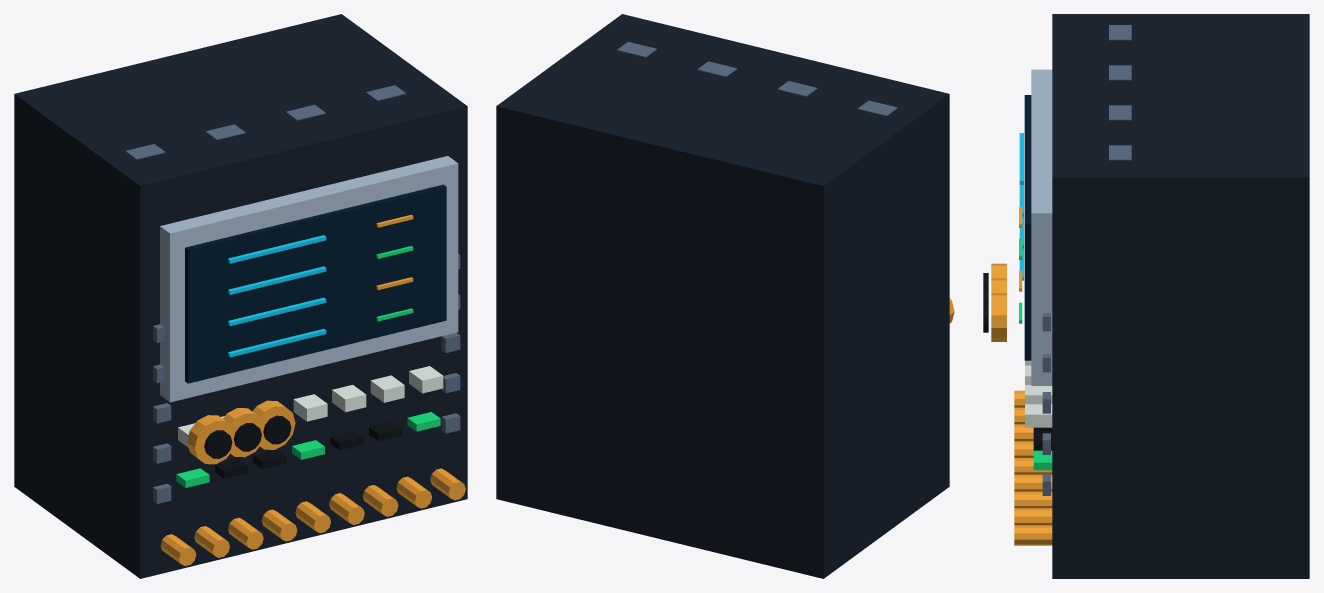
Rendered from 21_L88_AdsorberInletCO2Analyzer.fbx.
3 views of the same model, side by side, from view 1: azimuth 30°, elevation 25°; view 2: azimuth 150°, elevation 25°; view 3: azimuth 270°, elevation 25° (orthographic). The views are drawn at different scales.
Parts seen in each view (by area): view 1: L87_AdsorberInletCO2Analyzer_Part_0000, L87_AdsorberInletCO2Analyzer_Part_0002, L87_AdsorberInletCO2Analyzer_Part_0001, L87_AdsorberInletCO2Analyzer_Part_0004, L87_AdsorberInletCO2Analyzer_Part_0008, L87_AdsorberInletCO2Analyzer_Part_0006, L87_AdsorberInletCO2Analyzer_Part_0003, L87_AdsorberInletCO2Analyzer_Part_0007, L87_AdsorberInletCO2Analyzer_Part_0005, L87_AdsorberInletCO2Analyzer_Part_0009, L87_AdsorberInletCO2Analyzer_Part_0011, L87_AdsorberInletCO2Analyzer_Part_0013 (+3 smaller); view 2: L87_AdsorberInletCO2Analyzer_Part_0000, L87_AdsorberInletCO2Analyzer_Part_0008; view 3: L87_AdsorberInletCO2Analyzer_Part_0000, L87_AdsorberInletCO2Analyzer_Part_0001, L87_AdsorberInletCO2Analyzer_Part_0004, L87_AdsorberInletCO2Analyzer_Part_0008, L87_AdsorberInletCO2Analyzer_Part_0002, L87_AdsorberInletCO2Analyzer_Part_0006, L87_AdsorberInletCO2Analyzer_Part_0013, L87_AdsorberInletCO2Analyzer_Part_0003, L87_AdsorberInletCO2Analyzer_Part_0005.
Part boxes in pixels (box(x1,y1,x2,y2)): L87_AdsorberInletCO2Analyzer_Part_0000: box(14, 14, 467, 578); L87_AdsorberInletCO2Analyzer_Part_0002: box(185, 184, 446, 383); L87_AdsorberInletCO2Analyzer_Part_0001: box(160, 156, 458, 402); L87_AdsorberInletCO2Analyzer_Part_0004: box(160, 214, 465, 565); L87_AdsorberInletCO2Analyzer_Part_0008: box(125, 85, 460, 503); L87_AdsorberInletCO2Analyzer_Part_0006: box(178, 366, 443, 447); L87_AdsorberInletCO2Analyzer_Part_0003: box(228, 235, 326, 357); L87_AdsorberInletCO2Analyzer_Part_0007: box(215, 421, 401, 478); L87_AdsorberInletCO2Analyzer_Part_0005: box(176, 246, 440, 487); L87_AdsorberInletCO2Analyzer_Part_0009: box(187, 415, 235, 464); L87_AdsorberInletCO2Analyzer_Part_0011: box(223, 408, 264, 457); L87_AdsorberInletCO2Analyzer_Part_0013: box(252, 400, 295, 449); L87_AdsorberInletCO2Analyzer_Part_0000: box(496, 14, 949, 578); L87_AdsorberInletCO2Analyzer_Part_0008: box(617, 41, 897, 116); L87_AdsorberInletCO2Analyzer_Part_0000: box(1052, 14, 1309, 578); L87_AdsorberInletCO2Analyzer_Part_0001: box(1031, 69, 1052, 385); L87_AdsorberInletCO2Analyzer_Part_0004: box(1014, 207, 1052, 545); L87_AdsorberInletCO2Analyzer_Part_0008: box(1042, 25, 1131, 495); L87_AdsorberInletCO2Analyzer_Part_0002: box(1024, 95, 1031, 360); L87_AdsorberInletCO2Analyzer_Part_0006: box(1025, 360, 1052, 427); L87_AdsorberInletCO2Analyzer_Part_0013: box(991, 293, 1006, 341); L87_AdsorberInletCO2Analyzer_Part_0003: box(1019, 133, 1023, 280); L87_AdsorberInletCO2Analyzer_Part_0005: box(1019, 238, 1052, 470).
Size of the model in its own units: 102 by 117 by 86.2.
